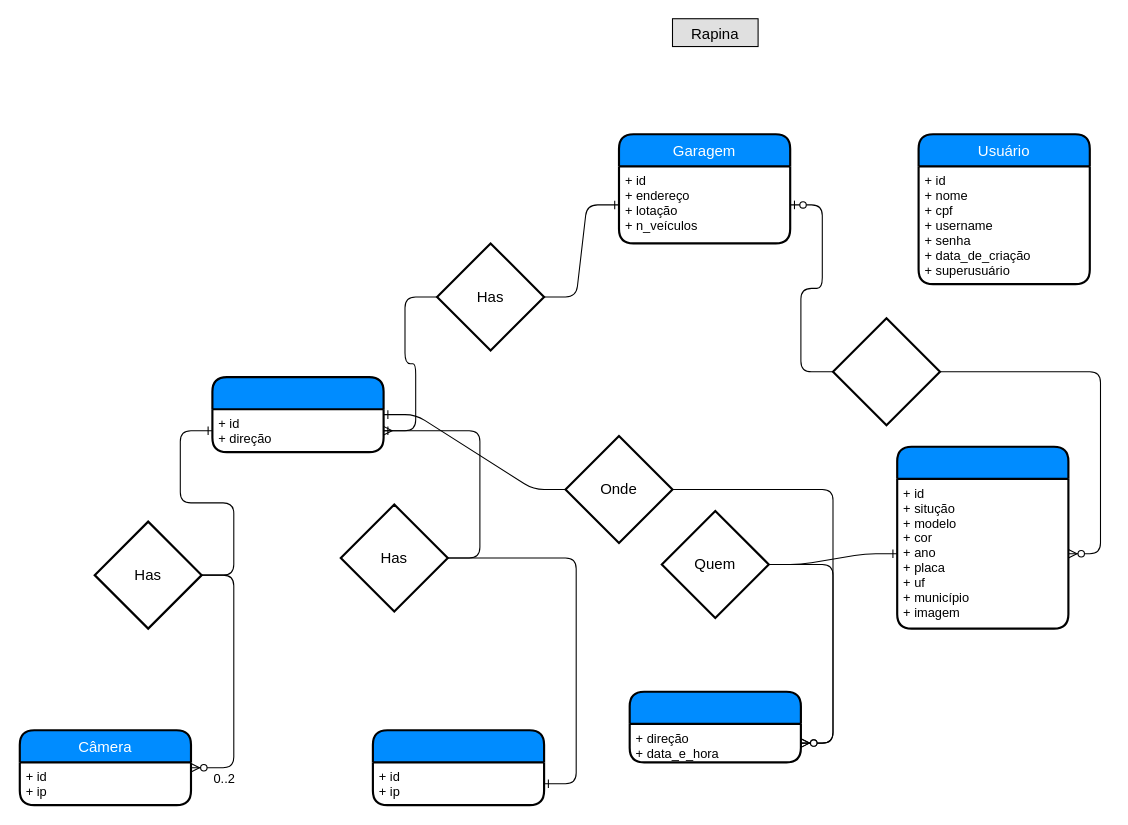
Some shapes in this 1128 by 825 pixel diagram are drawn without their labels. Each missing label, with the box of its shape:
Está em: (831, 317, 941, 426)
Movimentação: (628, 690, 801, 763)
Portal: (211, 376, 384, 453)
Sensor: (371, 729, 545, 806)
Veículo: (896, 445, 1069, 629)
